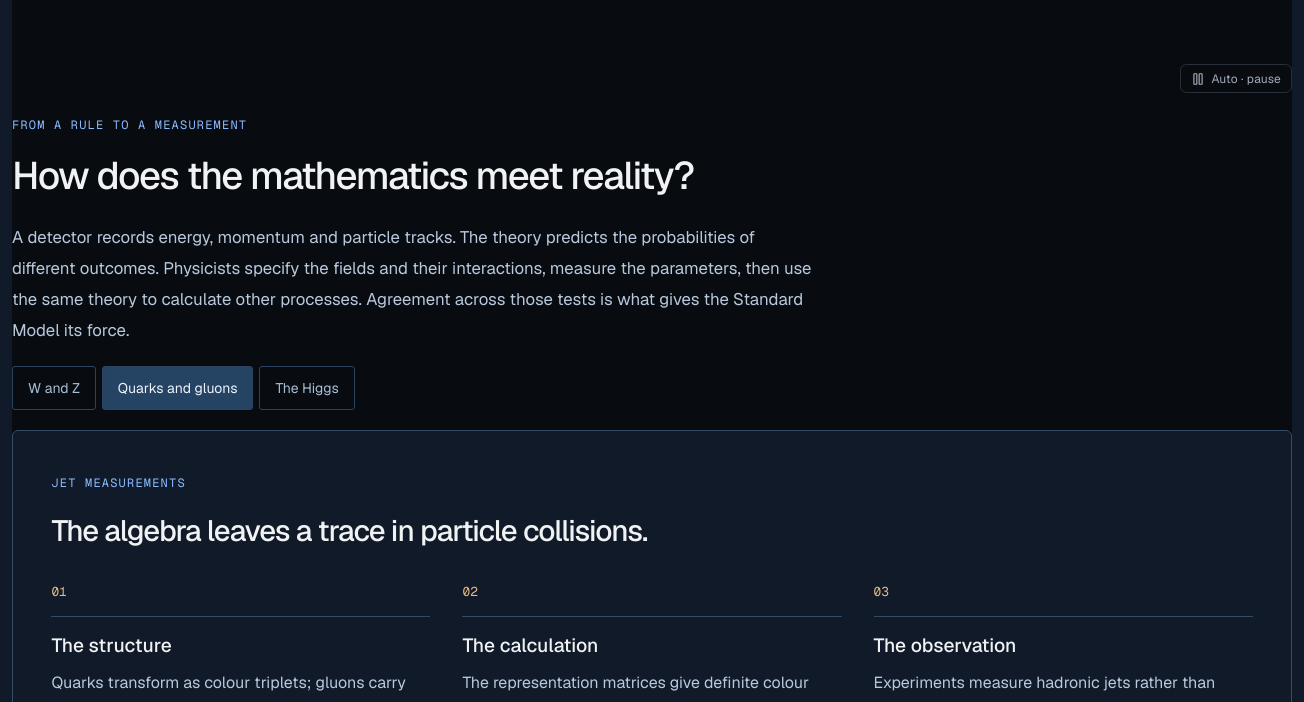
Test: physics explanations and their working examples › advances gently, but stops when the reader chooses an example
The width and height of the screenshot is (1304, 702).
Expected: the heading "The algebra leaves a trace in particle collisions." is shown, 51,511 -> 647,550
Press the mouse on the button "The Higgs" at coordinates (307, 388), box 259,366 -> 355,410
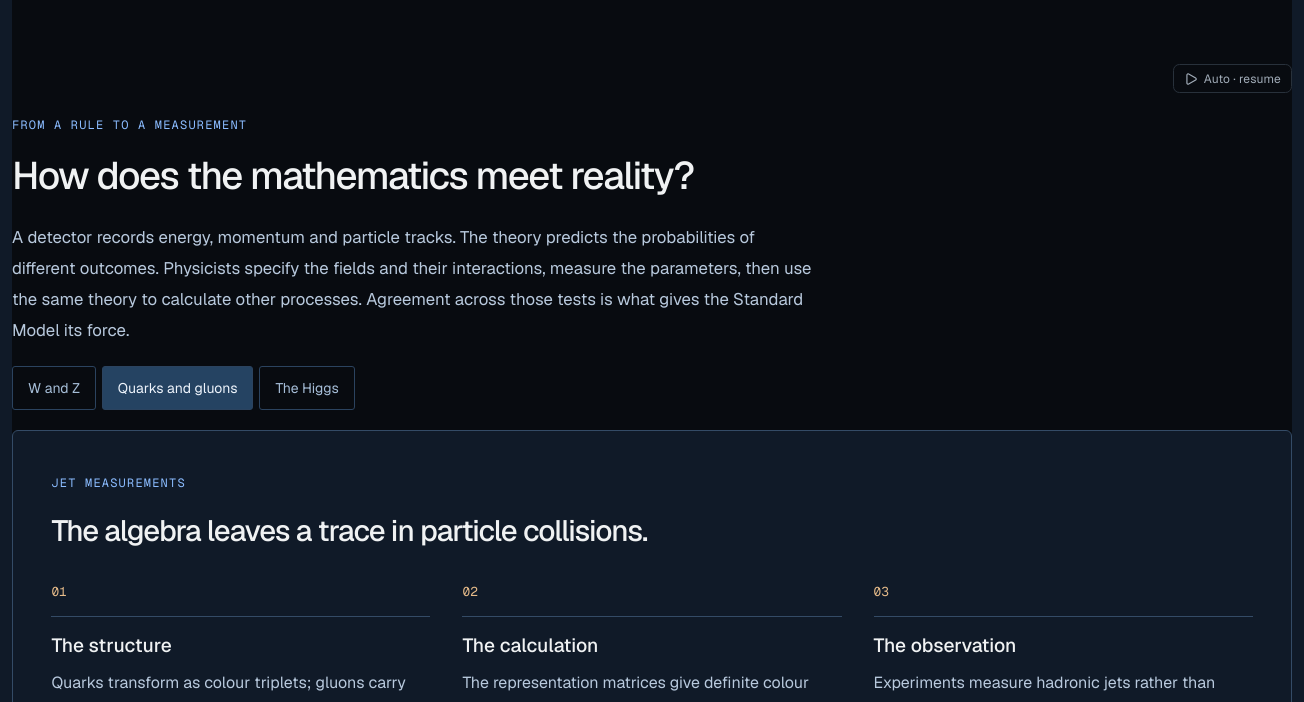
Click the button "The Higgs" at coordinates (307, 388), box 259,366 -> 355,410
Wait 72000 ms
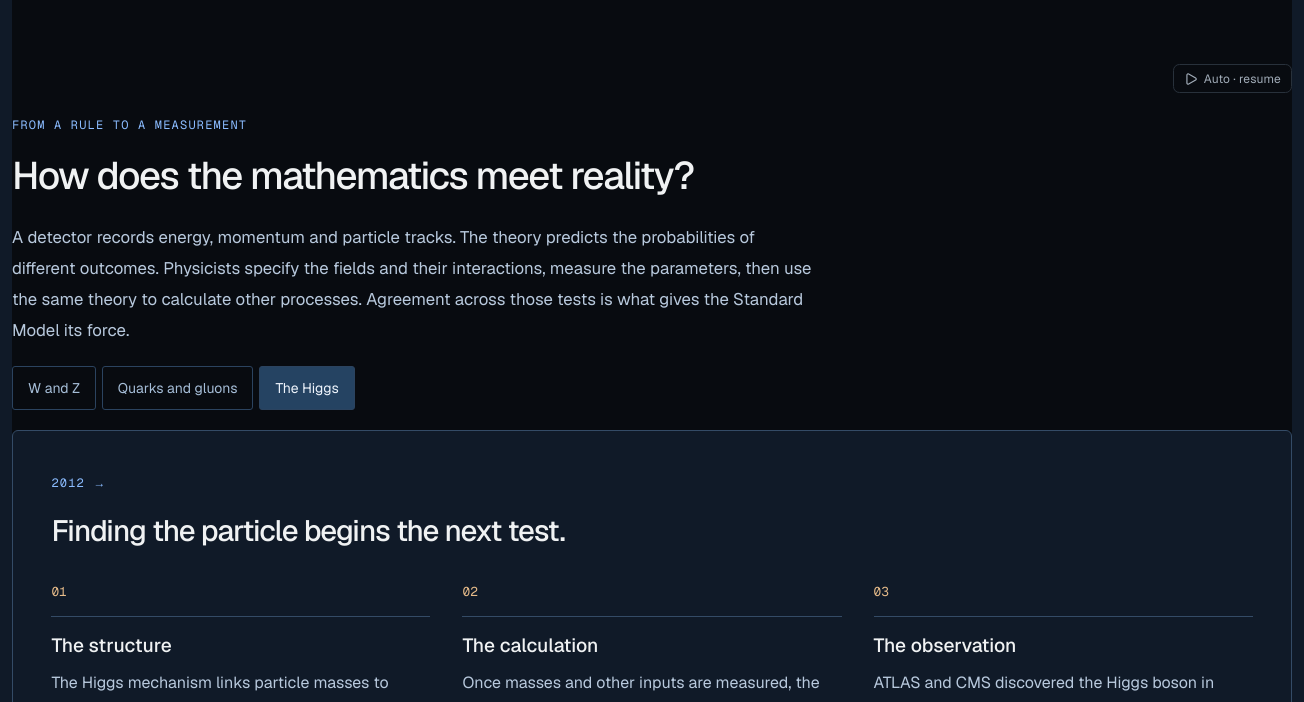
Result: the heading "Finding the particle begins the next test." is shown at 51,511 -> 565,550
